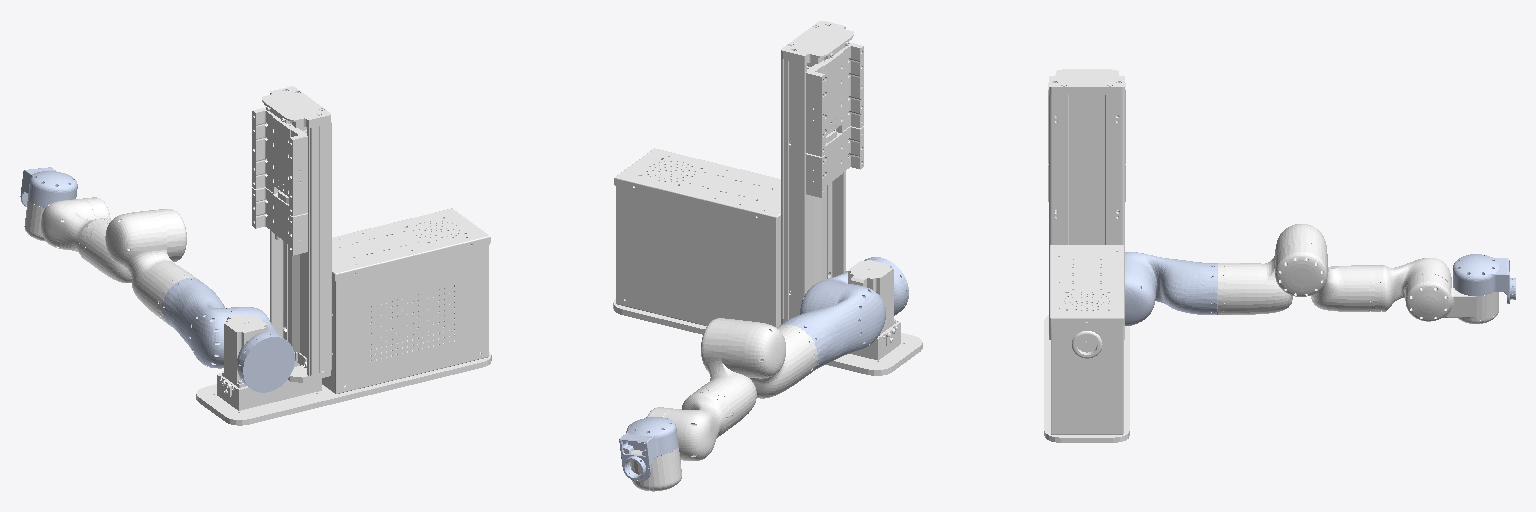
The robot description file, URDF, robot "dualarm_shoulder_v1":
<robot name="dualarm_shoulder_v1">
  <!-- Generated by scripts/generate_dualarm_shoulders.py; original geometry/axes preserved. -->
  <link name="base_link">
    <inertial>
      <origin xyz="0.0115781421480229 -0.164999972684203 -0.249284032931506" rpy="0 0 0" />
      <mass value="10.4149471202802" />
      <inertia ixx="0.126077719710666" ixy="-1.04875106067345E-06" ixz="8.13149512998869E-07" iyy="0.126889231983544" iyz="-5.95987193257436E-07" izz="0.0271091501124813" />
    </inertial>
    <visual>
      <origin xyz="0 0 0" rpy="0 0 0" />
      <geometry>
        <mesh filename="../meshes/base_link.STL" />
      </geometry>
      <material name="">
        <color rgba="1 1 1 1" />
      </material>
    </visual>
    <collision>
      <origin xyz="0 0 0" rpy="0 0 0" />
      <geometry>
        <mesh filename="../meshes/base_link.STL" />
      </geometry>
    </collision>
  </link>
  <link name="Left_Link1">
    <inertial>
      <origin xyz="0.0130648751437856 -0.000823809675494613 0.0882154108705615" rpy="0 0 0" />
      <mass value="2.64615506466597" />
      <inertia ixx="0.00817474290746845" ixy="-4.9769875305494E-06" ixz="-0.000751073973324912" iyy="0.0078576103829338" iyz="1.03702611580138E-05" izz="0.00274456918914084" />
    </inertial>
    <visual>
      <origin xyz="0 0 0" rpy="0 0 0" />
      <geometry>
        <mesh filename="../meshes/Left_Link1.STL" />
      </geometry>
      <material name="">
        <color rgba="0.866666666666667 0.909803921568627 1 1" />
      </material>
    </visual>
    <collision>
      <origin xyz="0 0 0" rpy="0 0 0" />
      <geometry>
        <mesh filename="../meshes/Left_Link1.STL" />
      </geometry>
    </collision>
  </link>
  <joint name="Left_Joint1" type="revolute">
    <origin xyz="0 0 0" rpy="-1.5774 0.16614 -0.039637" />
    <parent link="left_base" />
    <child link="Left_Link1" />
    <axis xyz="-0.039081 0 0.99924" />
    <limit lower="-2.84" upper="2.84" effort="30.0" velocity="3.0" />
  </joint>
  <link name="Left_Link2">
    <inertial>
      <origin xyz="0.00578609050716955 0.000195080028089809 -0.0685454017011983" rpy="0 0 0" />
      <mass value="2.60800437143759" />
      <inertia ixx="0.00995354117042841" ixy="-6.04522448306485E-06" ixz="-0.00208795979954183" iyy="0.0101256359428646" iyz="-7.171937577687E-05" izz="0.00287332541012145" />
    </inertial>
    <visual>
      <origin xyz="0 0 0" rpy="0 0 0" />
      <geometry>
        <mesh filename="../meshes/Left_Link2.STL" />
      </geometry>
      <material name="">
        <color rgba="0.866666666666667 0.909803921568627 1 1" />
      </material>
    </visual>
    <collision>
      <origin xyz="0 0 0" rpy="0 0 0" />
      <geometry>
        <mesh filename="../meshes/Left_Link2.STL" />
      </geometry>
    </collision>
  </link>
  <joint name="Left_Joint2" type="revolute">
    <origin xyz="-0.01509 0.00035359 0.13011" rpy="3.1416 0.039091 3.1416" />
    <parent link="Left_Link1" />
    <child link="Left_Link2" />
    <axis xyz="-0.99937 -0.035359 0" />
    <limit lower="-2.22" upper="2.22" effort="30.0" velocity="3.0" />
  </joint>
  <link name="Left_Link3">
    <inertial>
      <origin xyz="-0.0127998590308461 -0.0226867742854573 0.0907274554018663" rpy="0 0 0" />
      <mass value="1.1809319459101" />
      <inertia ixx="0.00455236310103355" ixy="-0.000436723434428525" ixz="0.000646602187651453" iyy="0.00377993578370875" iyz="0.00136680061263175" izz="0.00225369615816298" />
    </inertial>
    <visual>
      <origin xyz="0 0 0" rpy="0 0 0" />
      <geometry>
        <mesh filename="../meshes/Left_Link3.STL" />
      </geometry>
      <material name="">
        <color rgba="1 1 1 1" />
      </material>
    </visual>
    <collision>
      <origin xyz="0 0 0" rpy="0 0 0" />
      <geometry>
        <mesh filename="../meshes/Left_Link3.STL" />
      </geometry>
    </collision>
  </link>
  <joint name="Left_Joint3" type="revolute">
    <origin xyz="-0.010593 -0.00037475 -0.15599" rpy="3.1416 -0.039091 -3.1416" />
    <parent link="Left_Link2" />
    <child link="Left_Link3" />
    <axis xyz="0.039081 0 -0.99924" />
    <limit lower="-2.84" upper="2.84" effort="30.0" velocity="3.0" />
  </joint>
  <link name="Left_Link4">
    <inertial>
      <origin xyz="0.0491620053988312 -0.0389011645485071 -0.00190984209397196" rpy="0 0 0" />
      <mass value="0.776698777040036" />
      <inertia ixx="0.001384384048021" ixy="0.000783780720054383" ixz="0.000480369694440778" iyy="0.0020246160189453" iyz="-0.000372960812011015" izz="0.00250407991835111" />
    </inertial>
    <visual>
      <origin xyz="0 0 0" rpy="0 0 0" />
      <geometry>
        <mesh filename="../meshes/Left_Link4.STL" />
      </geometry>
      <material name="">
        <color rgba="1 1 1 1" />
      </material>
    </visual>
    <collision>
      <origin xyz="0 0 0" rpy="0 0 0" />
      <geometry>
        <mesh filename="../meshes/Left_Link4.STL" />
      </geometry>
    </collision>
  </link>
  <joint name="Left_Joint4" type="revolute">
    <origin xyz="0.0067557 -0.060475 0.14377" rpy="-0.035375 -1.5317 -3.1416" />
    <parent link="Left_Link3" />
    <child link="Left_Link4" />
    <axis xyz="0 0 1" />
    <limit lower="-2.23" upper="2.23" effort="30.0" velocity="3.0" />
  </joint>
  <link name="Left_Link5">
    <inertial>
      <origin xyz="-0.015899471389293 0.00047258493611374 0.0648960453071412" rpy="0 0 0" />
      <mass value="0.514431640485696" />
      <inertia ixx="0.00092753314104362" ixy="7.4926834106308E-07" ixz="0.000138475143018062" iyy="0.000953796443737563" iyz="-4.14338080780309E-06" izz="0.000400848748349703" />
    </inertial>
    <visual>
      <origin xyz="0 0 0" rpy="0 0 0" />
      <geometry>
        <mesh filename="../meshes/Left_Link5.STL" />
      </geometry>
      <material name="">
        <color rgba="1 1 1 1" />
      </material>
    </visual>
    <collision>
      <origin xyz="0 0 0" rpy="0 0 0" />
      <geometry>
        <mesh filename="../meshes/Left_Link5.STL" />
      </geometry>
    </collision>
  </link>
  <joint name="Left_Joint5" type="revolute">
    <origin xyz="0.1264 -0.06 -0.0151" rpy="-0.73574 -1.5181 -2.4065" />
    <parent link="Left_Link4" />
    <child link="Left_Link5" />
    <axis xyz="-0.039081 0 0.99924" />
    <limit lower="-2.71" upper="2.71" effort="30.0" velocity="3.0" />
  </joint>
  <link name="Left_Link6">
    <inertial>
      <origin xyz="0.0489114722806189 -0.0108276375808885 -0.0014991040832379" rpy="0 0 0" />
      <mass value="0.454168620867733" />
      <inertia ixx="0.000377375282070069" ixy="0.000122649361854611" ixz="0.000260408226469554" iyy="0.00106310833728796" iyz="-4.63034331463269E-05" izz="0.000975306049808757" />
    </inertial>
    <visual>
      <origin xyz="0 0 0" rpy="0 0 0" />
      <geometry>
        <mesh filename="../meshes/Left_Link6.STL" />
      </geometry>
      <material name="">
        <color rgba="1 1 1 1" />
      </material>
    </visual>
    <collision>
      <origin xyz="0 0 0" rpy="0 0 0" />
      <geometry>
        <mesh filename="../meshes/Left_Link6.STL" />
      </geometry>
    </collision>
  </link>
  <joint name="Left_Joint6" type="revolute">
    <origin xyz="0.010785 -0.00050916 0.092492" rpy="-0.035375 -1.5317 -3.1416" />
    <parent link="Left_Link5" />
    <child link="Left_Link6" />
    <axis xyz="0 0 -1" />
    <limit lower="-2.11" upper="2.11" effort="30.0" velocity="3.0" />
  </joint>
  <link name="Left_Link7">
    <inertial>
      <origin xyz="-0.000300308184923971 0.0162560294485025 0.0206837978701518" rpy="0 0 0" />
      <mass value="0.190537666053757" />
      <inertia ixx="0.00024031586339692" ixy="4.81159245725332E-06" ixz="-4.09674518850991E-06" iyy="0.000157228095467476" iyz="4.66209429677079E-05" izz="0.000281269455911388" />
    </inertial>
    <visual>
      <origin xyz="0 0 0" rpy="0 0 0" />
      <geometry>
        <mesh filename="../meshes/Left_Link7.STL" />
      </geometry>
      <material name="">
        <color rgba="0.866666666666667 0.909803921568627 1 1" />
      </material>
    </visual>
    <collision>
      <origin xyz="0 0 0" rpy="0 0 0" />
      <geometry>
        <mesh filename="../meshes/Left_Link7.STL" />
      </geometry>
    </collision>
  </link>
  <joint name="Left_Joint7" type="revolute">
    <origin xyz="0.081 0.0094 -0.015" rpy="0.83643 -1.5181 -2.4065" />
    <parent link="Left_Link6" />
    <child link="Left_Link7" />
    <axis xyz="-0.035332 0 0.99938" />
    <limit lower="-2.84" upper="3.14" effort="30.0" velocity="3.0" />
  </joint>
  <link name="Right_Link1">
    <inertial>
      <origin xyz="0.0165214532159615 -0.000239813642650383 0.0876376665081489" rpy="0 0 0" />
      <mass value="2.64616676953452" />
      <inertia ixx="0.00810772932503254" ixy="4.28531752071978E-06" ixz="-0.000960611156964986" iyy="0.00785753736018334" iyz="-2.34113893695444E-05" izz="0.00281153441477445" />
    </inertial>
    <visual>
      <origin xyz="0 0 0" rpy="0 0 0" />
      <geometry>
        <mesh filename="../meshes/Right_Link1.STL" />
      </geometry>
      <material name="">
        <color rgba="0.866666666666667 0.909803921568627 1 1" />
      </material>
    </visual>
    <collision>
      <origin xyz="0 0 0" rpy="0 0 0" />
      <geometry>
        <mesh filename="../meshes/Right_Link1.STL" />
      </geometry>
    </collision>
  </link>
  <joint name="Right_Joint1" type="revolute">
    <origin xyz="0 0 0" rpy="1.5708 0.3927 0" />
    <parent link="right_base" />
    <child link="Right_Link1" />
    <axis xyz="0 0 -1" />
    <limit lower="-2.84" upper="2.84" effort="30.0" velocity="3.0" />
  </joint>
  <link name="Right_Link2">
    <inertial>
      <origin xyz="0.0685822566396352 7.22580008757912E-07 0.00578865088328227" rpy="0 0 0" />
      <mass value="2.60802664440413" />
      <inertia ixx="0.00287355307641272" ixy="-1.85715491924803E-06" ixz="0.00208960043017607" iyy="0.0101273486150658" iyz="-4.92729091266405E-08" izz="0.00995476277702387" />
    </inertial>
    <visual>
      <origin xyz="0 0 0" rpy="0 0 0" />
      <geometry>
        <mesh filename="../meshes/Right_Link2.STL" />
      </geometry>
      <material name="">
        <color rgba="0.866666666666667 0.909803921568627 1 1" />
      </material>
    </visual>
    <collision>
      <origin xyz="0 0 0" rpy="0 0 0" />
      <geometry>
        <mesh filename="../meshes/Right_Link2.STL" />
      </geometry>
    </collision>
  </link>
  <joint name="Right_Joint2" type="revolute">
    <origin xyz="-0.01 -1.0268E-05 0.13056" rpy="0 -1.5708 0" />
    <parent link="Right_Link1" />
    <child link="Right_Link2" />
    <axis xyz="0 0 1" />
    <limit lower="-2.22" upper="2.22" effort="30.0" velocity="3.0" />
  </joint>
  <link name="Right_Link3">
    <inertial>
      <origin xyz="-0.00843637756883452 -0.0229995887077534 0.0911584621327549" rpy="0 0 0" />
      <mass value="1.18092876500138" />
      <inertia ixx="0.00462539576887829" ixy="-0.000353063295739382" ixz="0.000505618768575648" iyy="0.00375389482914515" iyz="0.00140157843105859" izz="0.00220670625582811" />
    </inertial>
    <visual>
      <origin xyz="0 0 0" rpy="0 0 0" />
      <geometry>
        <mesh filename="../meshes/Right_Link3.STL" />
      </geometry>
      <material name="">
        <color rgba="1 1 1 1" />
      </material>
    </visual>
    <collision>
      <origin xyz="0 0 0" rpy="0 0 0" />
      <geometry>
        <mesh filename="../meshes/Right_Link3.STL" />
      </geometry>
    </collision>
  </link>
  <joint name="Right_Joint3" type="revolute">
    <origin xyz="0.15603 1.0268E-05 -0.0106" rpy="0 1.5708 0" />
    <parent link="Right_Link2" />
    <child link="Right_Link3" />
    <axis xyz="0 0 -1" />
    <limit lower="-2.84" upper="2.84" effort="30.0" velocity="3.0" />
  </joint>
  <link name="Right_Link4">
    <inertial>
      <origin xyz="0.0491620018625096 -0.038901142630353 -0.00190980477611477" rpy="0 0 0" />
      <mass value="0.77669656389258" />
      <inertia ixx="0.0013843823216911" ixy="0.000783781240427268" ixz="0.000480368706893704" iyy="0.00202461696315155" iyz="-0.000372959646452941" izz="0.00250407717475406" />
    </inertial>
    <visual>
      <origin xyz="0 0 0" rpy="0 0 0" />
      <geometry>
        <mesh filename="../meshes/Right_Link4.STL" />
      </geometry>
      <material name="">
        <color rgba="1 1 1 1" />
      </material>
    </visual>
    <collision>
      <origin xyz="0 0 0" rpy="0 0 0" />
      <geometry>
        <mesh filename="../meshes/Right_Link4.STL" />
      </geometry>
    </collision>
  </link>
  <joint name="Right_Joint4" type="revolute">
    <origin xyz="0.0145 -0.06 0.1434" rpy="3.14 -1.5708 0" />
    <parent link="Right_Link3" />
    <child link="Right_Link4" />
    <axis xyz="0 0 1" />
    <limit lower="-2.23" upper="2.23" effort="30.0" velocity="3.0" />
  </joint>
  <link name="Right_Link5">
    <inertial>
      <origin xyz="-0.0133594403923385 1.21002539404946E-07 0.0654681296167375" rpy="0 0 0" />
      <mass value="0.514432219520791" />
      <inertia ixx="0.0009375192338613" ixy="1.13571205474256E-08" ixz="0.000117559904056488" iyy="0.000953812310412444" iyz="-1.32549216013262E-08" izz="0.000390839181176558" />
    </inertial>
    <visual>
      <origin xyz="0 0 0" rpy="0 0 0" />
      <geometry>
        <mesh filename="../meshes/Right_Link5.STL" />
      </geometry>
      <material name="">
        <color rgba="1 1 1 1" />
      </material>
    </visual>
    <collision>
      <origin xyz="0 0 0" rpy="0 0 0" />
      <geometry>
        <mesh filename="../meshes/Right_Link5.STL" />
      </geometry>
    </collision>
  </link>
  <joint name="Right_Joint5" type="revolute">
    <origin xyz="0.1264 -0.06 -0.0151" rpy="3.14 -1.5707  0" />
    <parent link="Right_Link4" />
    <child link="Right_Link5" />
    <axis xyz="0 0 1" />
    <limit lower="-2.71" upper="2.71" effort="30.0" velocity="3.0" />
  </joint>
  <link name="Right_Link6">
    <inertial>
      <origin xyz="0.0489114733946453 -0.0108276152719367 -0.00149910042920012" rpy="0 0 0" />
      <mass value="0.454168455260558" />
      <inertia ixx="0.000377375258308447" ixy="0.00012264931121645" ixz="0.000260408400333536" iyy="0.00106310749068169" iyz="-4.63033766892964E-05" izz="0.000975305611224434" />
    </inertial>
    <visual>
      <origin xyz="0 0 0" rpy="0 0 0" />
      <geometry>
        <mesh filename="../meshes/Right_Link6.STL" />
      </geometry>
      <material name="">
        <color rgba="1 1 1 1" />
      </material>
    </visual>
    <collision>
      <origin xyz="0 0 0" rpy="0 0 0" />
      <geometry>
        <mesh filename="../meshes/Right_Link6.STL" />
      </geometry>
    </collision>
  </link>
  <joint name="Right_Joint6" type="revolute">
    <origin xyz="0.0144 0 0.092" rpy="3.1415926 -1.5708 0" />
    <parent link="Right_Link5" />
    <child link="Right_Link6" />
    <axis xyz="0 0 -1" />
    <limit lower="-2.11" upper="2.11" effort="30.0" velocity="3.0" />
  </joint>
  <link name="Right_Link7">
    <inertial>
      <origin xyz="0.0162267653750229 -0.00106604983527493 0.020681505025884" rpy="0 0 0" />
      <mass value="0.190537564792888" />
      <inertia ixx="0.000156850221403529" ixy="-3.19863162787039E-06" ixz="4.64896303923571E-05" iyy="0.000240455459068551" iyz="8.23093782290209E-07" izz="0.00028150755646602" />
    </inertial>
    <visual>
      <origin xyz="0 0 0" rpy="0 0 0" />
      <geometry>
        <mesh filename="../meshes/Right_Link7.STL" />
      </geometry>
      <material name="">
        <color rgba="0.866666666666667 0.909803921568627 1 1" />
      </material>
    </visual>
    <collision>
      <origin xyz="0 0 0" rpy="0 0 0" />
      <geometry>
        <mesh filename="../meshes/Right_Link7.STL" />
      </geometry>
    </collision>
  </link>
  <joint name="Right_Joint7" type="revolute">
    <origin xyz="0.081 0.0094 -0.015" rpy="-1.5708 0 0" />
    <parent link="Right_Link6" />
    <child link="Right_Link7" />
    <axis xyz="0 0 1" />
    <limit lower="-2.84" upper="3.14" effort="30.0" velocity="3.0" />
  </joint>
  <link name="left_base" />
  <joint name="left_base_mount" type="fixed">
    <parent link="base_link" />
    <child link="left_base" />
    <origin xyz="0.011578 -0.063 0.091501" rpy="0 0 0" />
  </joint>
  <link name="right_base" />
  <joint name="right_base_mount" type="fixed">
    <parent link="base_link" />
    <child link="right_base" />
    <origin xyz="0.011578 -0.267 0.091501" rpy="0 0 0" />
  </joint>
</robot>

--- Facts derived from the render (not from the file) ---
The picture shows the robot from 3 angles, left to right: view 1: azimuth 30°, elevation 25°; view 2: azimuth 150°, elevation 25°; view 3: azimuth 270°, elevation 25°; orthographic projection.
Model dualarm_shoulder_v1 with 17 links and 16 joints (14 revolute, 2 fixed), rooted at base_link, posed every joint at zero.
Visible links, largest first — view 1: base_link, Left_Link3, Left_Link2, Left_Link1, Left_Link5, Left_Link4, Left_Link7, Left_Link6; view 2: base_link, Left_Link3, Left_Link2, Left_Link5, Left_Link4, Left_Link7, Left_Link1, Left_Link6; view 3: base_link, Left_Link4, Left_Link3, Left_Link2, Left_Link6, Left_Link7, Left_Link5, Left_Link1.
Link boxes in pixels (x1=…): base_link: x1=196, y1=86, x2=491, y2=425; Left_Link3: x1=105, y1=210, x2=198, y2=324; Left_Link2: x1=162, y1=278, x2=233, y2=368; Left_Link1: x1=226, y1=307, x2=294, y2=392; Left_Link5: x1=41, y1=199, x2=111, y2=261; Left_Link4: x1=83, y1=209, x2=186, y2=282; Left_Link7: x1=20, y1=167, x2=77, y2=207; Left_Link6: x1=24, y1=197, x2=110, y2=241; base_link: x1=613, y1=21, x2=922, y2=375; Left_Link3: x1=721, y1=320, x2=817, y2=398; Left_Link2: x1=780, y1=284, x2=885, y2=372; Left_Link5: x1=663, y1=390, x2=729, y2=460; Left_Link4: x1=697, y1=318, x2=756, y2=433; Left_Link7: x1=619, y1=417, x2=678, y2=481; Left_Link1: x1=800, y1=257, x2=908, y2=315; Left_Link6: x1=630, y1=407, x2=681, y2=491; base_link: x1=1044, y1=69, x2=1129, y2=442; Left_Link4: x1=1275, y1=242, x2=1374, y2=311; Left_Link3: x1=1218, y1=224, x2=1327, y2=314; Left_Link2: x1=1125, y1=252, x2=1217, y2=314; Left_Link6: x1=1405, y1=274, x2=1498, y2=323; Left_Link7: x1=1453, y1=254, x2=1515, y2=303; Left_Link5: x1=1375, y1=258, x2=1451, y2=311; Left_Link1: x1=1125, y1=261, x2=1155, y2=325.
Bounding box of the posed robot: 0.506 × 0.8069 × 0.5265 m (x, y, z).
Meshes: 15 distinct files referenced, 8 mesh visuals loaded (8 binary STL); not drawn: 7 (reference not matched to a file when rendering).
